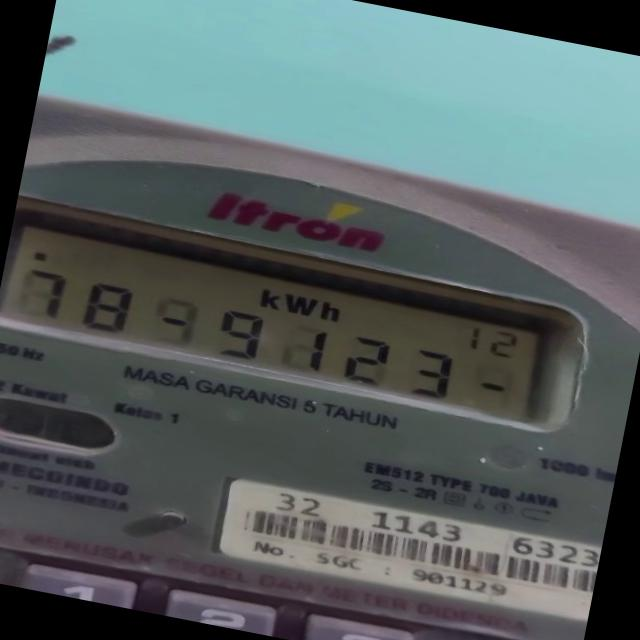LCD: (0, 192, 582, 447)
